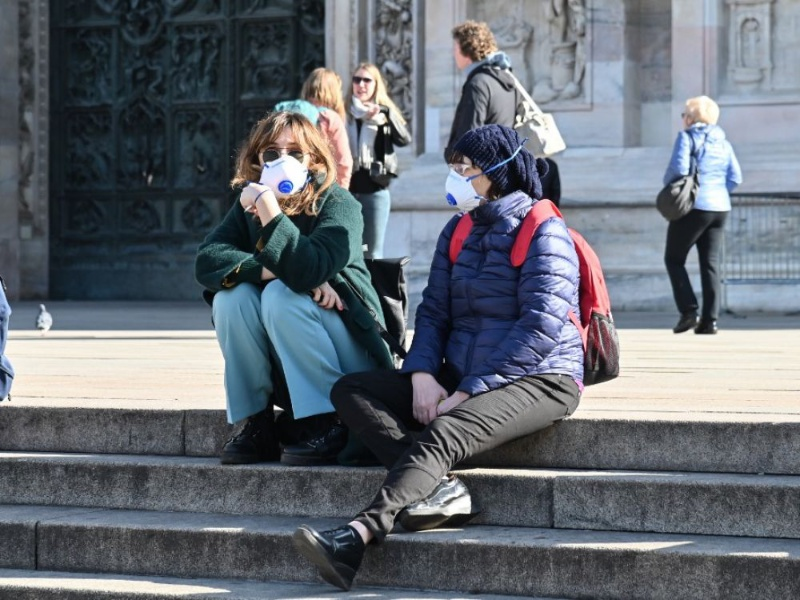ManaoArotava: (242, 108, 325, 220), (436, 124, 512, 228)
TsisyArotava: (345, 57, 389, 121)
